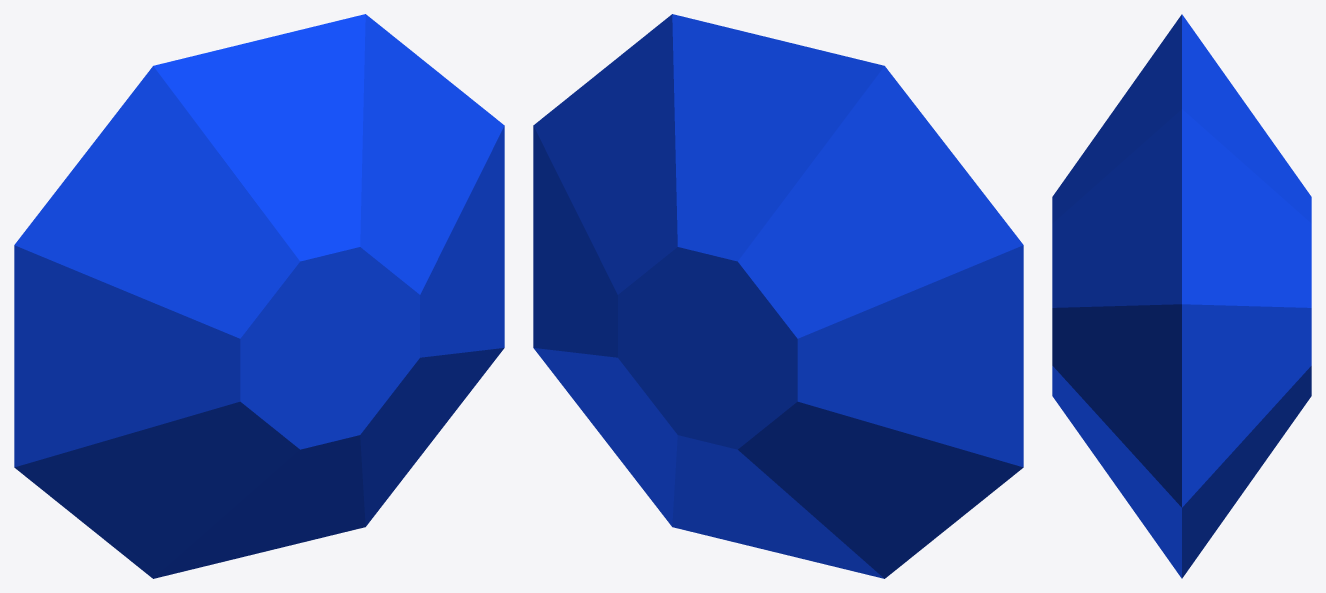
Rendered from sapphire_break.sapphire.obj.
The picture shows the model from 3 angles, left to right: view 1: azimuth 30°, elevation 25°; view 2: azimuth 150°, elevation 25°; view 3: azimuth 270°, elevation 25°; orthographic projection. The views are drawn at different scales.
Visible parts, largest first — view 1: Cube_Cube.001; view 2: Cube_Cube.001; view 3: Cube_Cube.001.
Part boxes in pixels (x1,y1,x2,y2): Cube_Cube.001: [14, 14, 504, 578]; Cube_Cube.001: [533, 14, 1023, 578]; Cube_Cube.001: [1052, 14, 1311, 578].
Bounding box in the file's own units: 1 × 1 × 0.5.
